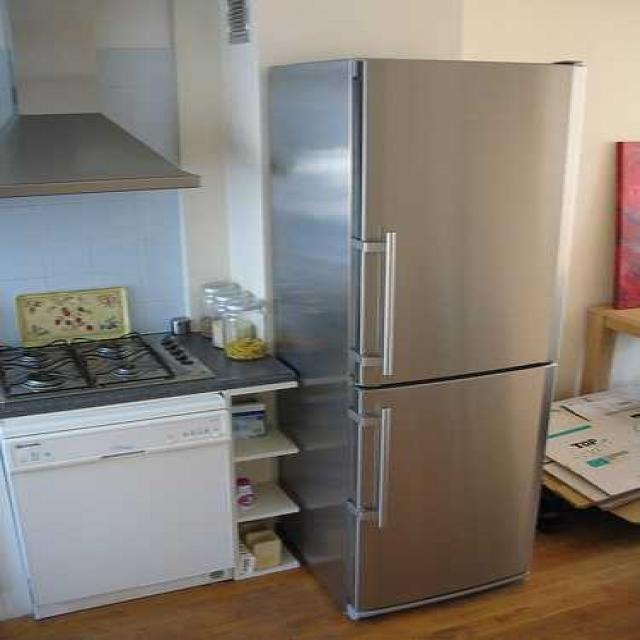refrigerator: (349, 56, 568, 604)
